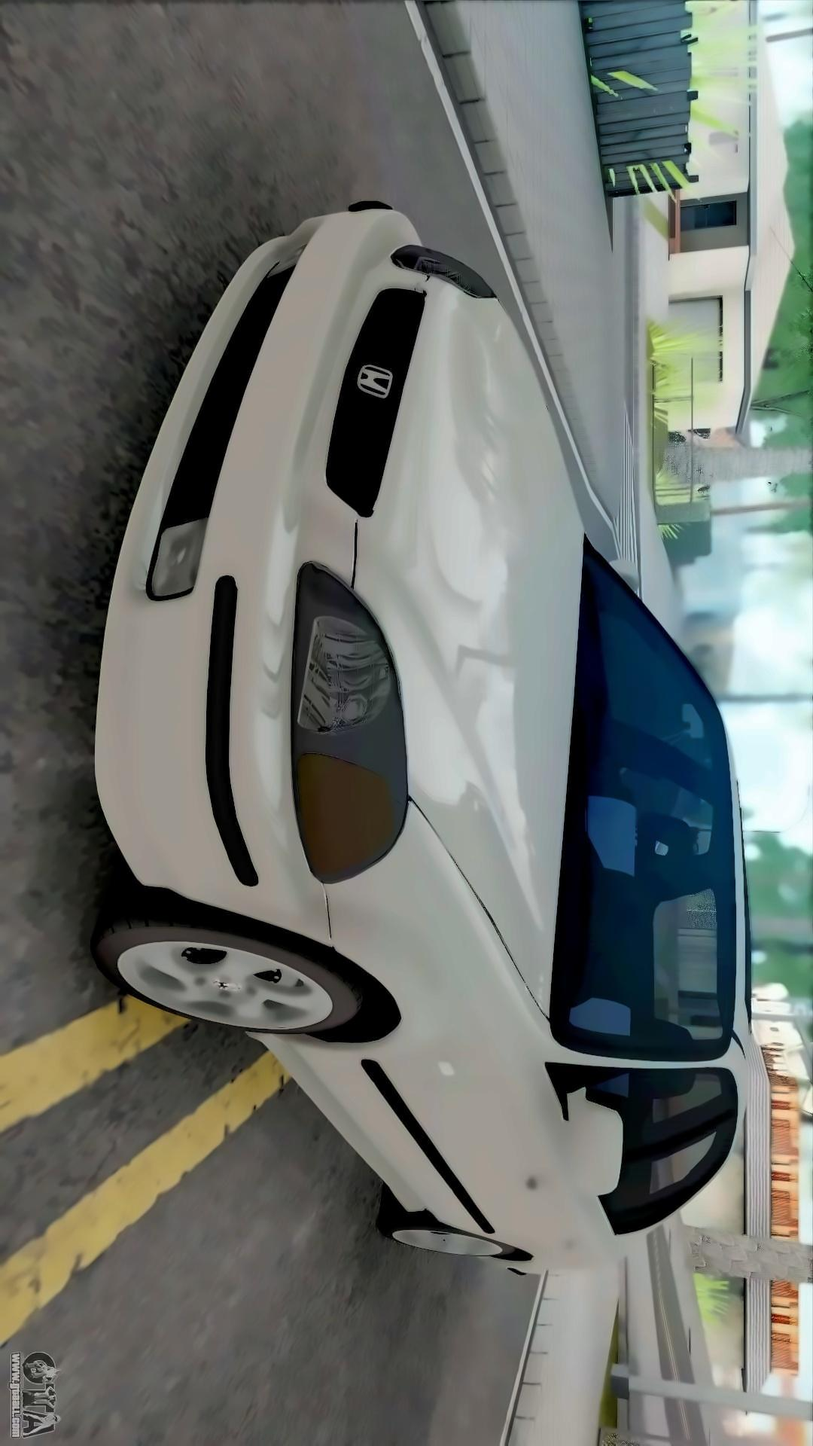Car hood: (342, 261, 585, 1031)
Fender - -F-L-: (266, 794, 604, 1069)
Front bumper: (83, 184, 373, 963)
Headlight - -L-: (281, 553, 437, 899)
Headlight - -R-: (377, 229, 512, 315)
Passenger-s door - -F-L-: (296, 1063, 759, 1198)
Passenger-s door - -R-L-: (367, 1133, 768, 1250)
Side bumper - -L-: (234, 1020, 455, 1237)
Side mirror - -L-: (540, 1065, 645, 1205)
Side mirror - -R-: (600, 528, 654, 609)
